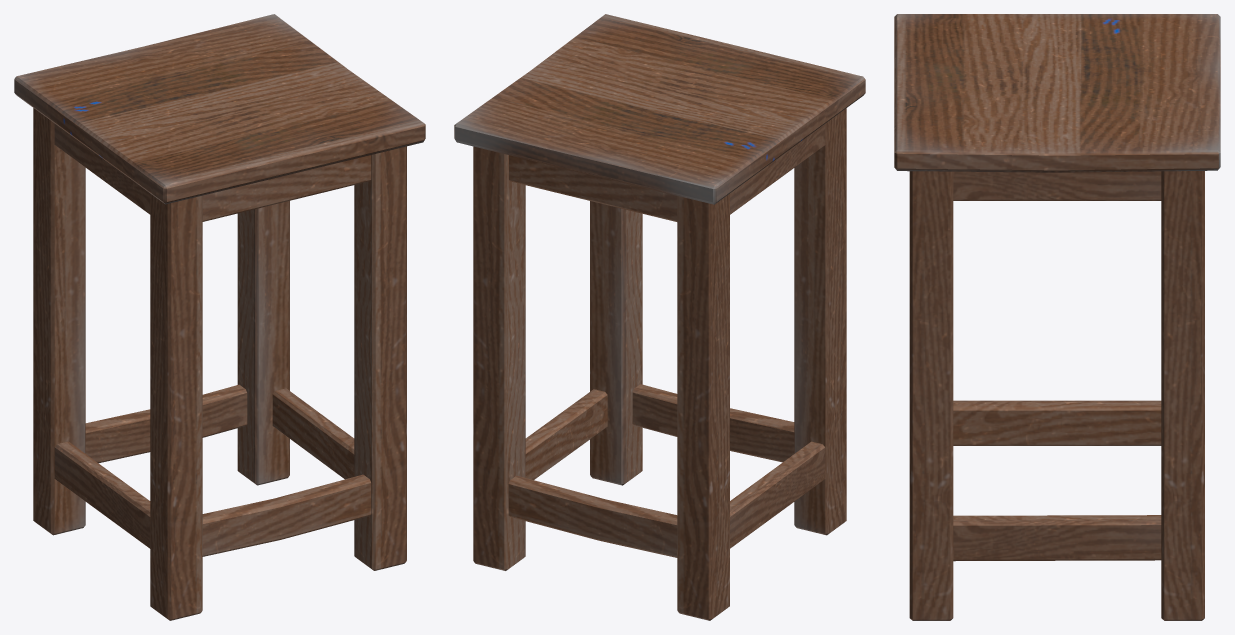
The model's file is WoodChair.fbx.
3 renders of one model, left to right at view 1: azimuth 30°, elevation 25°; view 2: azimuth 150°, elevation 25°; view 3: azimuth 270°, elevation 25°, orthographic. The views are drawn at different scales.
Visible parts, largest first — view 1: WoodChair1_LOD0; view 2: WoodChair1_LOD0; view 3: WoodChair1_LOD0.
Part boxes in pixels (x1,y1,x2,y2): WoodChair1_LOD0: [14, 14, 425, 620]; WoodChair1_LOD0: [454, 14, 865, 620]; WoodChair1_LOD0: [894, 14, 1220, 620].
Size of what is drawn, in the model's own units: 0.3002 by 0.4847 by 0.3002.
